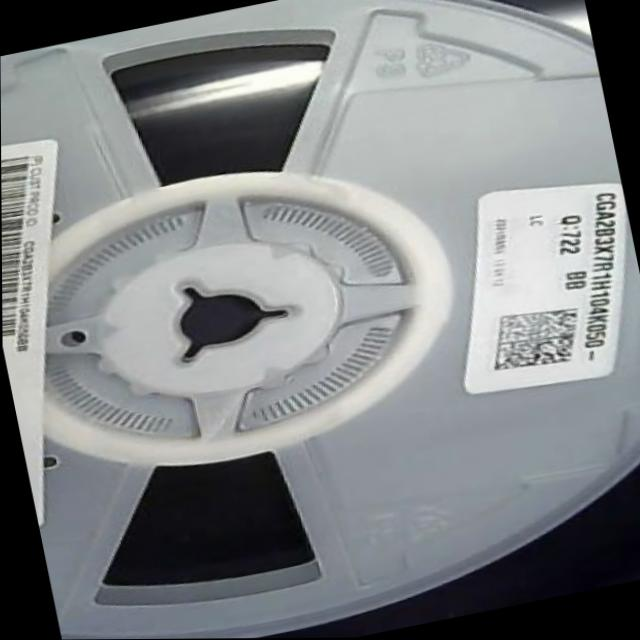datamatrix: (479, 299, 593, 380)
